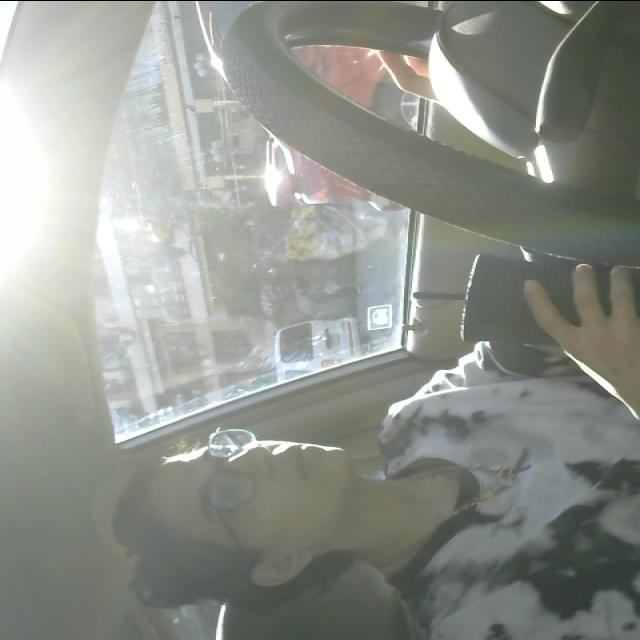drinking: (401, 239, 640, 369)
